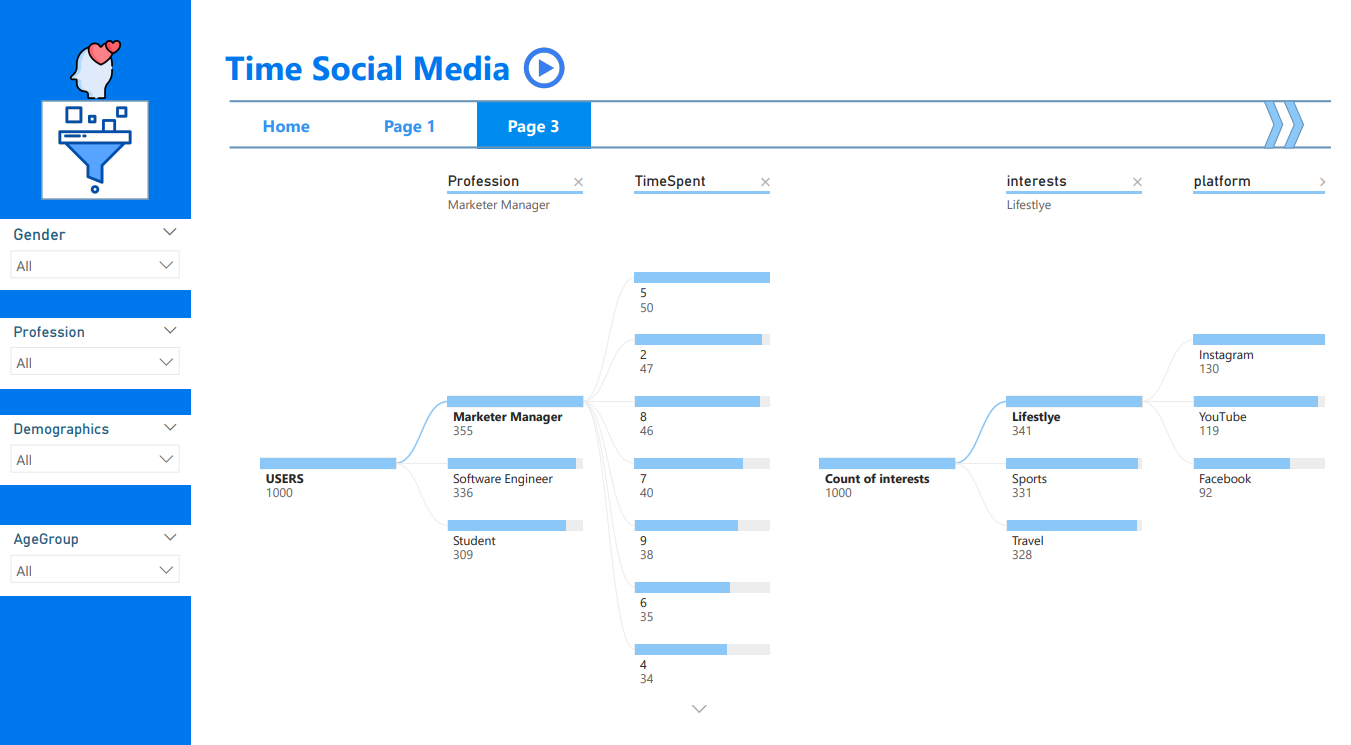

This screenshot's page, from the dashboard's own definition file:
{"tool":"powerbi","page":{"name":"Page 3 ","canvas":[1280,720],"ordinal":2},"visuals":[{"type":"shape","box":[0,0,183.1,719.5],"z":0},{"type":"slicer","fields":{"Values":["PlatformByGender.Gender"]},"box":[0,210.4,183.1,67.5],"z":1000},{"type":"slicer","fields":{"Values":["UsersPlatforms.profession"]},"box":[0,305.2,183.1,67.5],"z":2000},{"type":"slicer","fields":{"Values":["demographicsUsers.Demographics"]},"box":[0,398.7,183.1,67.5],"z":3000},{"type":"slicer","fields":{"Values":["AgeGroup.AgeGroup"]},"box":[0,505.2,183.1,67.5],"z":4000},{"type":"textbox","box":[202.6,36.4,1077.9,59.7],"z":5000},{"type":"pageNavigator","box":[220.8,96.1,349.4,45.5],"z":6000},{"type":"shape","box":[220.8,93.5,1059.7,5.2],"z":7000},{"type":"shape","box":[220.8,135.1,1059.7,11.7],"z":8000},{"type":"image","box":[490.9,36.4,64.9,54.5],"z":9000},{"type":"shape","box":[40.3,96.1,102.6,94.8],"z":10000},{"type":"image","box":[40.3,96.1,102.6,94.8],"z":11000},{"type":"shape","box":[1235.1,96.1,19.5,45.5],"z":12000},{"type":"shape","box":[1215.6,96.1,19.5,45.5],"z":13000},{"type":"image","box":[1226,176.6,54.5,64.9],"z":14000},{"type":"decompositionTreeVisual","fields":{"Analyze":["Sum(UsersPlatforms.USERS)"],"ExplainBy":["UsersPlatforms.profession","UsersPlatforms.TimeSpent"]},"box":[221.3,147.9,537.9,572.1],"z":14001},{"type":"decompositionTreeVisual","fields":{"Analyze":["CountNonNull(dummy_data.interests)"],"ExplainBy":["dummy_data.interests","dummy_data.platform"]},"box":[759.1,147.9,520.7,572.1],"z":14002},{"type":"image","box":[59,32.9,65.8,65.8],"z":14003}]}

Visuals, with their boxes on the page's 1280x720 design canvas (x1, y1, x2, y2). These are canvas units, not pixel positions in the 1351x745 screenshot, which may show the page scaled, cropped or inside an application window:
shape: [0, 0, 183, 720]
slicer - PlatformByGender.Gender: [0, 210, 183, 278]
slicer - UsersPlatforms.profession: [0, 305, 183, 373]
slicer - demographicsUsers.Demographics: [0, 399, 183, 466]
slicer - AgeGroup.AgeGroup: [0, 505, 183, 573]
textbox: [203, 36, 1280, 96]
pageNavigator: [221, 96, 570, 142]
shape: [221, 94, 1280, 99]
shape: [221, 135, 1280, 147]
image: [491, 36, 556, 91]
shape: [40, 96, 143, 191]
image: [40, 96, 143, 191]
shape: [1235, 96, 1255, 142]
shape: [1216, 96, 1235, 142]
image: [1226, 177, 1280, 242]
decompositionTreeVisual - Sum(UsersPlatforms.USERS) x UsersPlatforms.profession: [221, 148, 759, 720]
decompositionTreeVisual - CountNonNull(dummy_data.interests) x dummy_data.interests: [759, 148, 1280, 720]
image: [59, 33, 125, 99]
